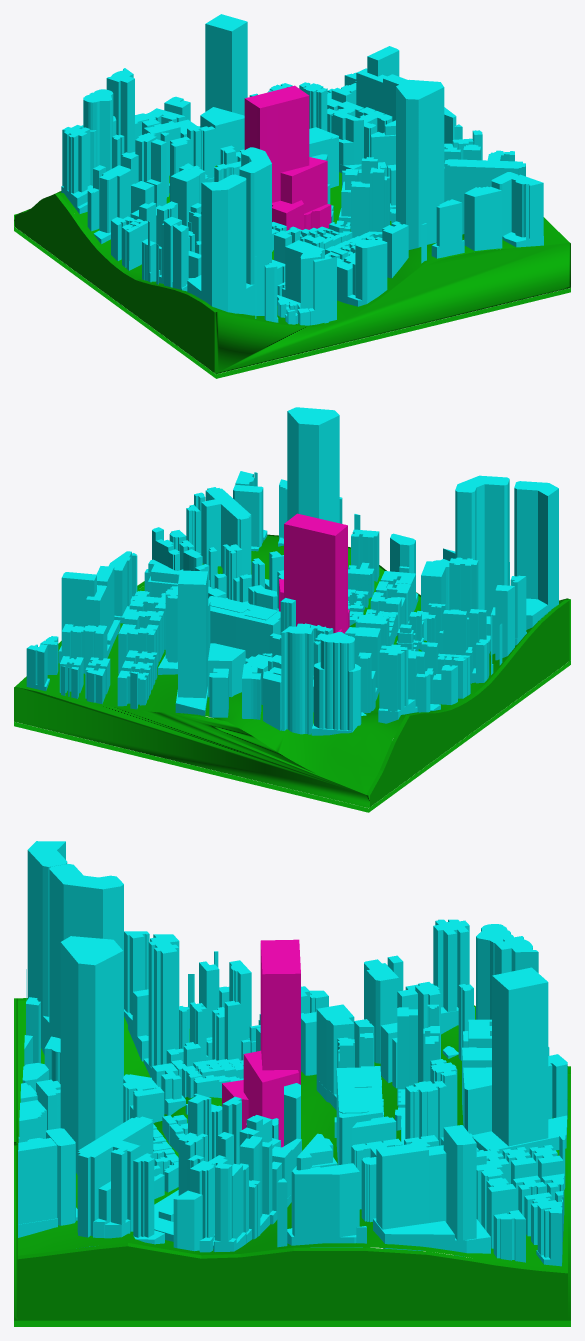
The model's file is hysen_place.glb.
The picture shows the model from 3 angles, top to bottom: view 1: azimuth 30°, elevation 25°; view 2: azimuth 150°, elevation 25°; view 3: azimuth 270°, elevation 25°; orthographic projection. The views are drawn at different scales.
Parts seen in each view (by area): view 1: Component_1_1, Group657, Group603, Group340, Group429, Group48, Group211, Group654, Group355, Group139, Group226, Group76 (+44 smaller); view 2: Component_1_1, Group654, Group657, Group429, Group603, Group211, Group340, Group48, Group641, Group355, Group203, Group85 (+44 smaller); view 3: Group657, Group603, Group654, Group48, Group211, Component_1_1, Group429, Group58, Group355, Group161, Group340, Group264 (+65 smaller).
Part boxes in pixels (box(x1,y1,x2,y2)): Component_1_1: box(14, 208, 570, 378); Group657: box(15, 193, 568, 372); Group603: box(396, 79, 444, 249); Group340: box(201, 174, 246, 314); Group429: box(244, 85, 309, 202); Group48: box(205, 14, 247, 115); Group211: box(239, 147, 271, 315); Group654: box(24, 165, 563, 326); Group355: box(444, 154, 525, 234); Group139: box(464, 186, 502, 250); Group226: box(280, 157, 327, 213); Group76: box(285, 240, 324, 308); Component_1_1: box(14, 534, 570, 812); Group654: box(20, 535, 564, 794); Group657: box(15, 581, 569, 806); Group429: box(284, 513, 347, 633); Group603: box(287, 407, 339, 523); Group211: box(455, 475, 509, 616); Group340: box(514, 481, 558, 612); Group48: box(178, 570, 208, 698); Group641: box(281, 623, 313, 734); Group355: box(201, 487, 251, 575); Group203: box(320, 632, 354, 730); Group85: box(208, 596, 280, 658); Group657: box(17, 998, 567, 1320); Group603: box(60, 936, 123, 1174); Group654: box(17, 1000, 567, 1269); Group48: box(492, 967, 548, 1146); Group211: box(49, 864, 123, 1076); Component_1_1: box(14, 998, 570, 1326); Group429: box(260, 939, 300, 1084); Group58: box(292, 1163, 359, 1247); Group355: box(77, 1116, 153, 1248); Group161: box(376, 1142, 428, 1229); Group340: box(27, 841, 67, 1049); Group264: box(148, 936, 178, 1067).
Size of the model in its own units: 32.52 by 18.69 by 32.11.
